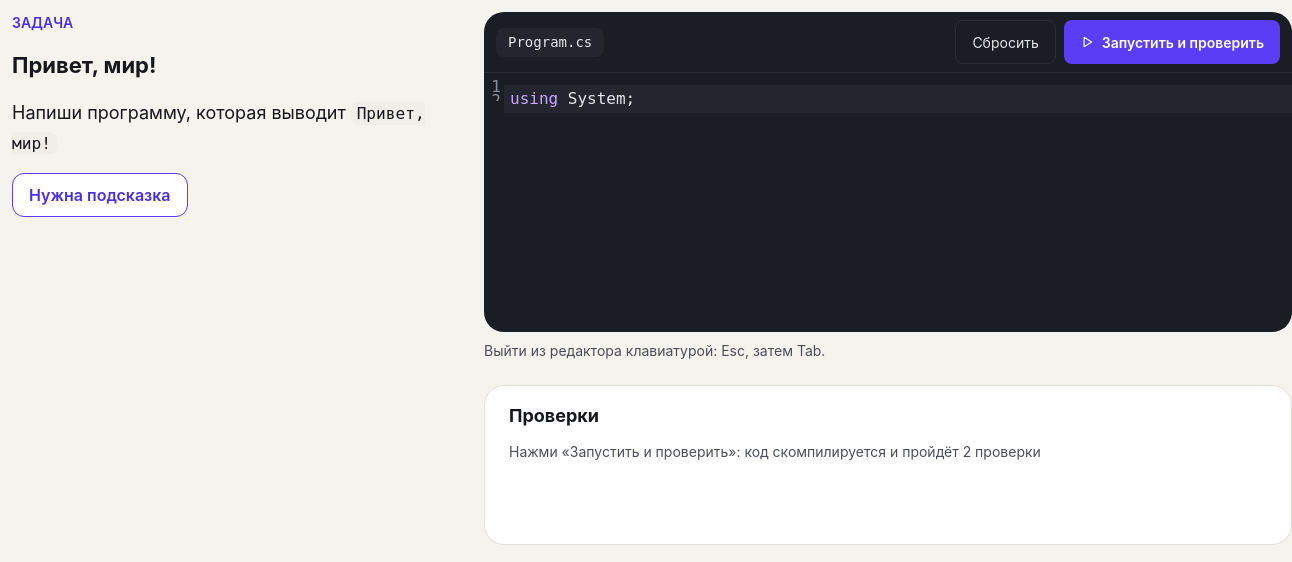
Test: LessonTask › бесконечный цикл — объяснение про таймаут
Click the button "Запустить и проверить": click(1172, 42) [1064,20,1280,64]
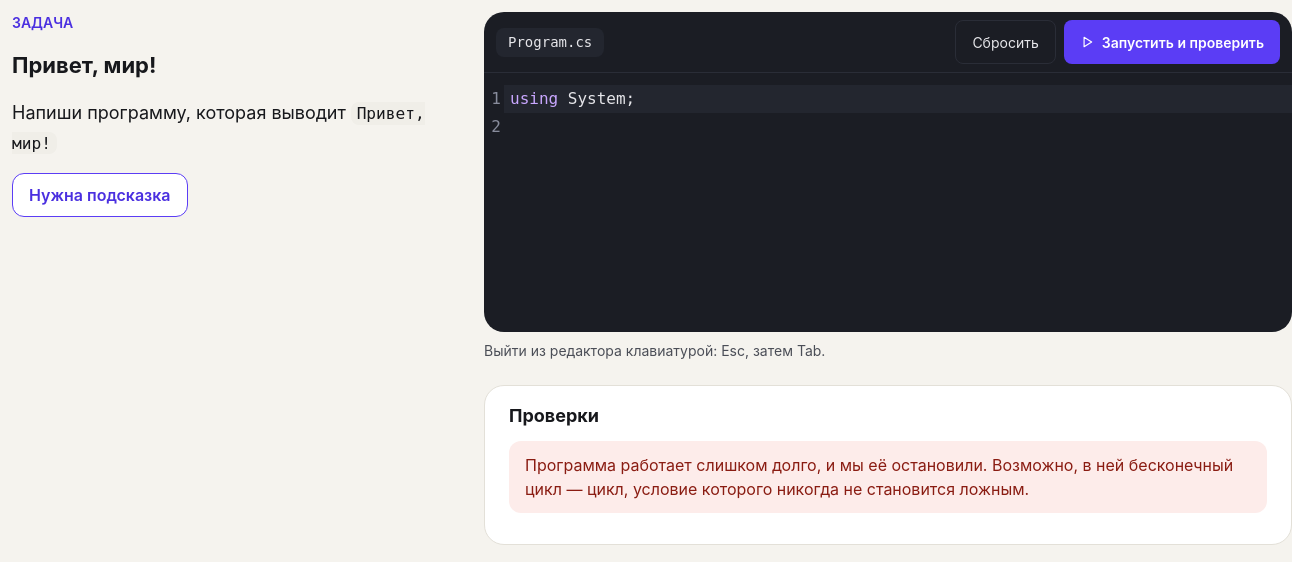
Check: the text "Возможно, в ней бесконечный цикл" is shown, box [525,455,1233,499]
